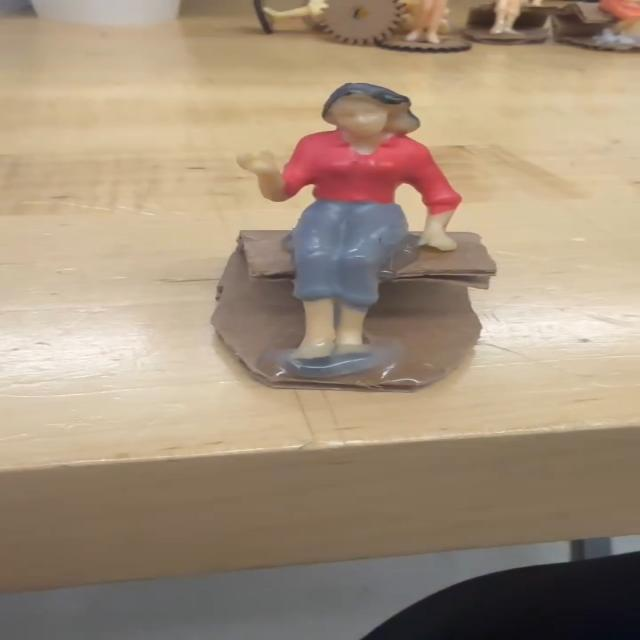Authorized: (219, 79, 477, 388)
